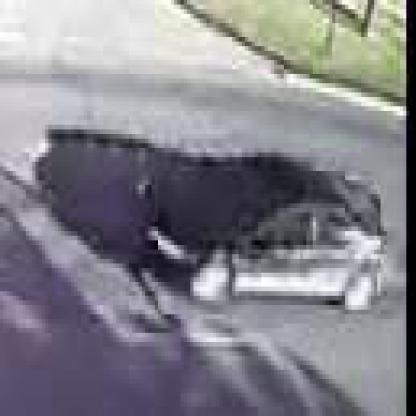car: (159, 172, 385, 320)
